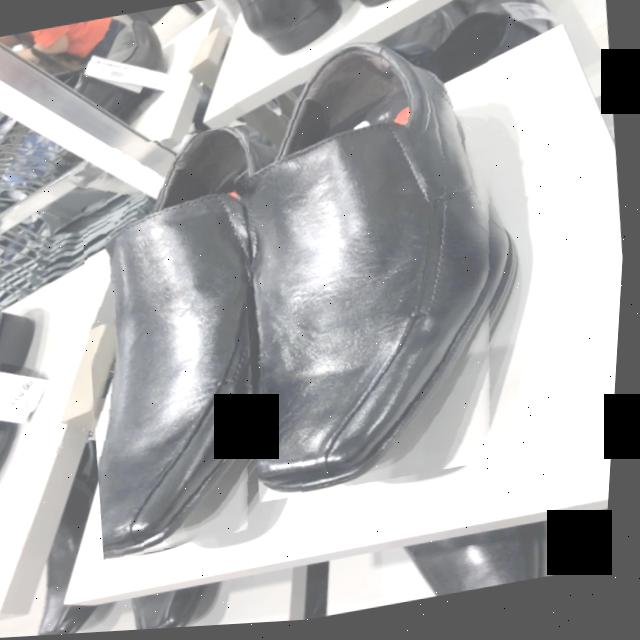shoe: (243, 53, 495, 499), (104, 132, 255, 562)
